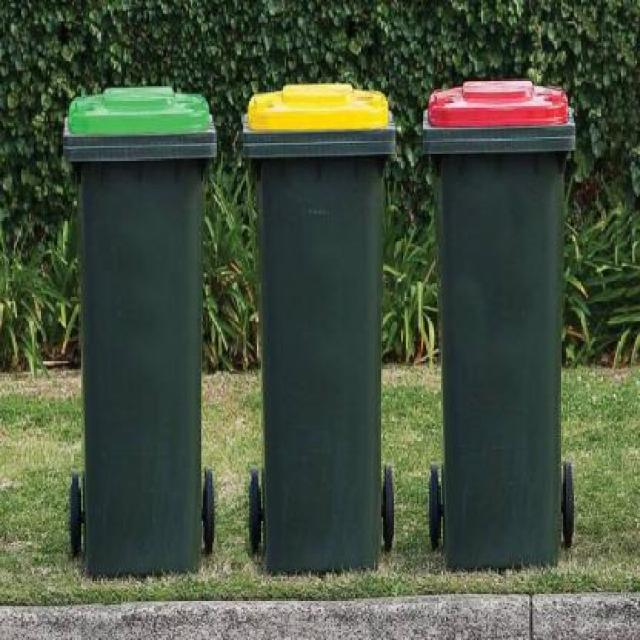garbage container: (409, 60, 589, 591), (49, 77, 234, 591), (236, 75, 407, 577)
